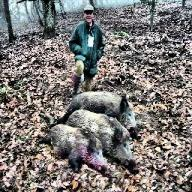boar: (64, 108, 139, 173), (53, 90, 141, 140), (37, 122, 114, 178)
